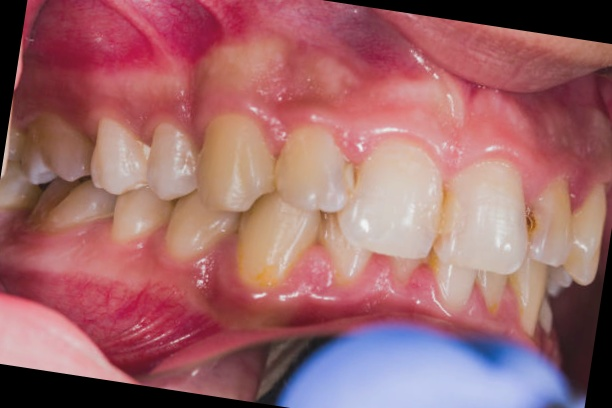Gingivitis: (25, 259, 208, 372), (256, 39, 383, 125)
